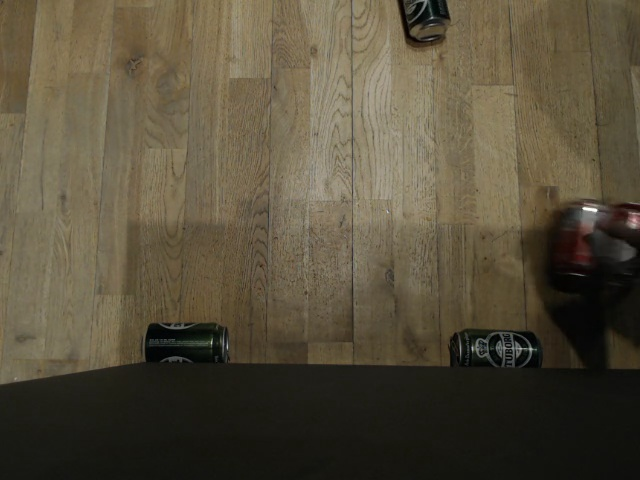beer: (446, 325, 547, 372), (139, 317, 232, 367), (393, 0, 451, 46)
cola: (553, 197, 607, 283), (609, 199, 640, 286)
